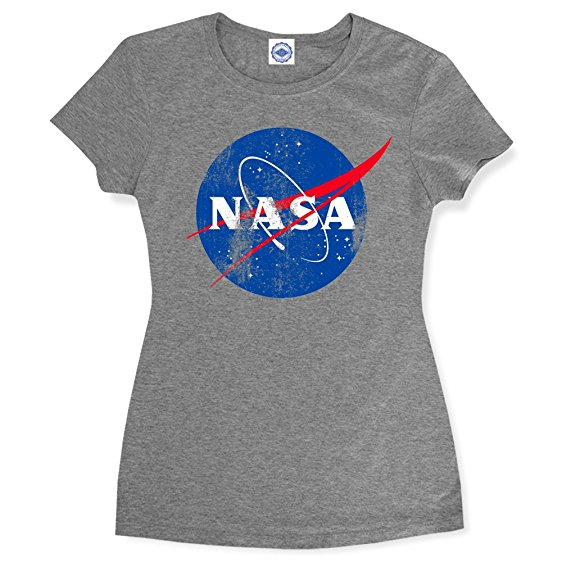NASA: (179, 129, 398, 299)
